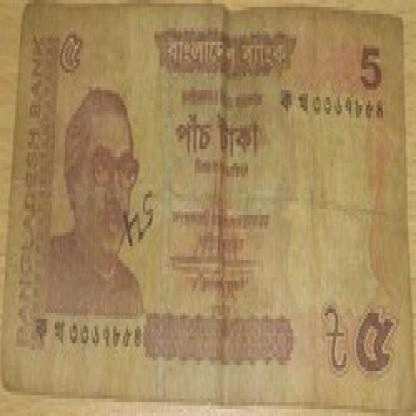Five Taka: (170, 100, 274, 163), (351, 291, 399, 392), (356, 38, 386, 97), (56, 24, 85, 76)
